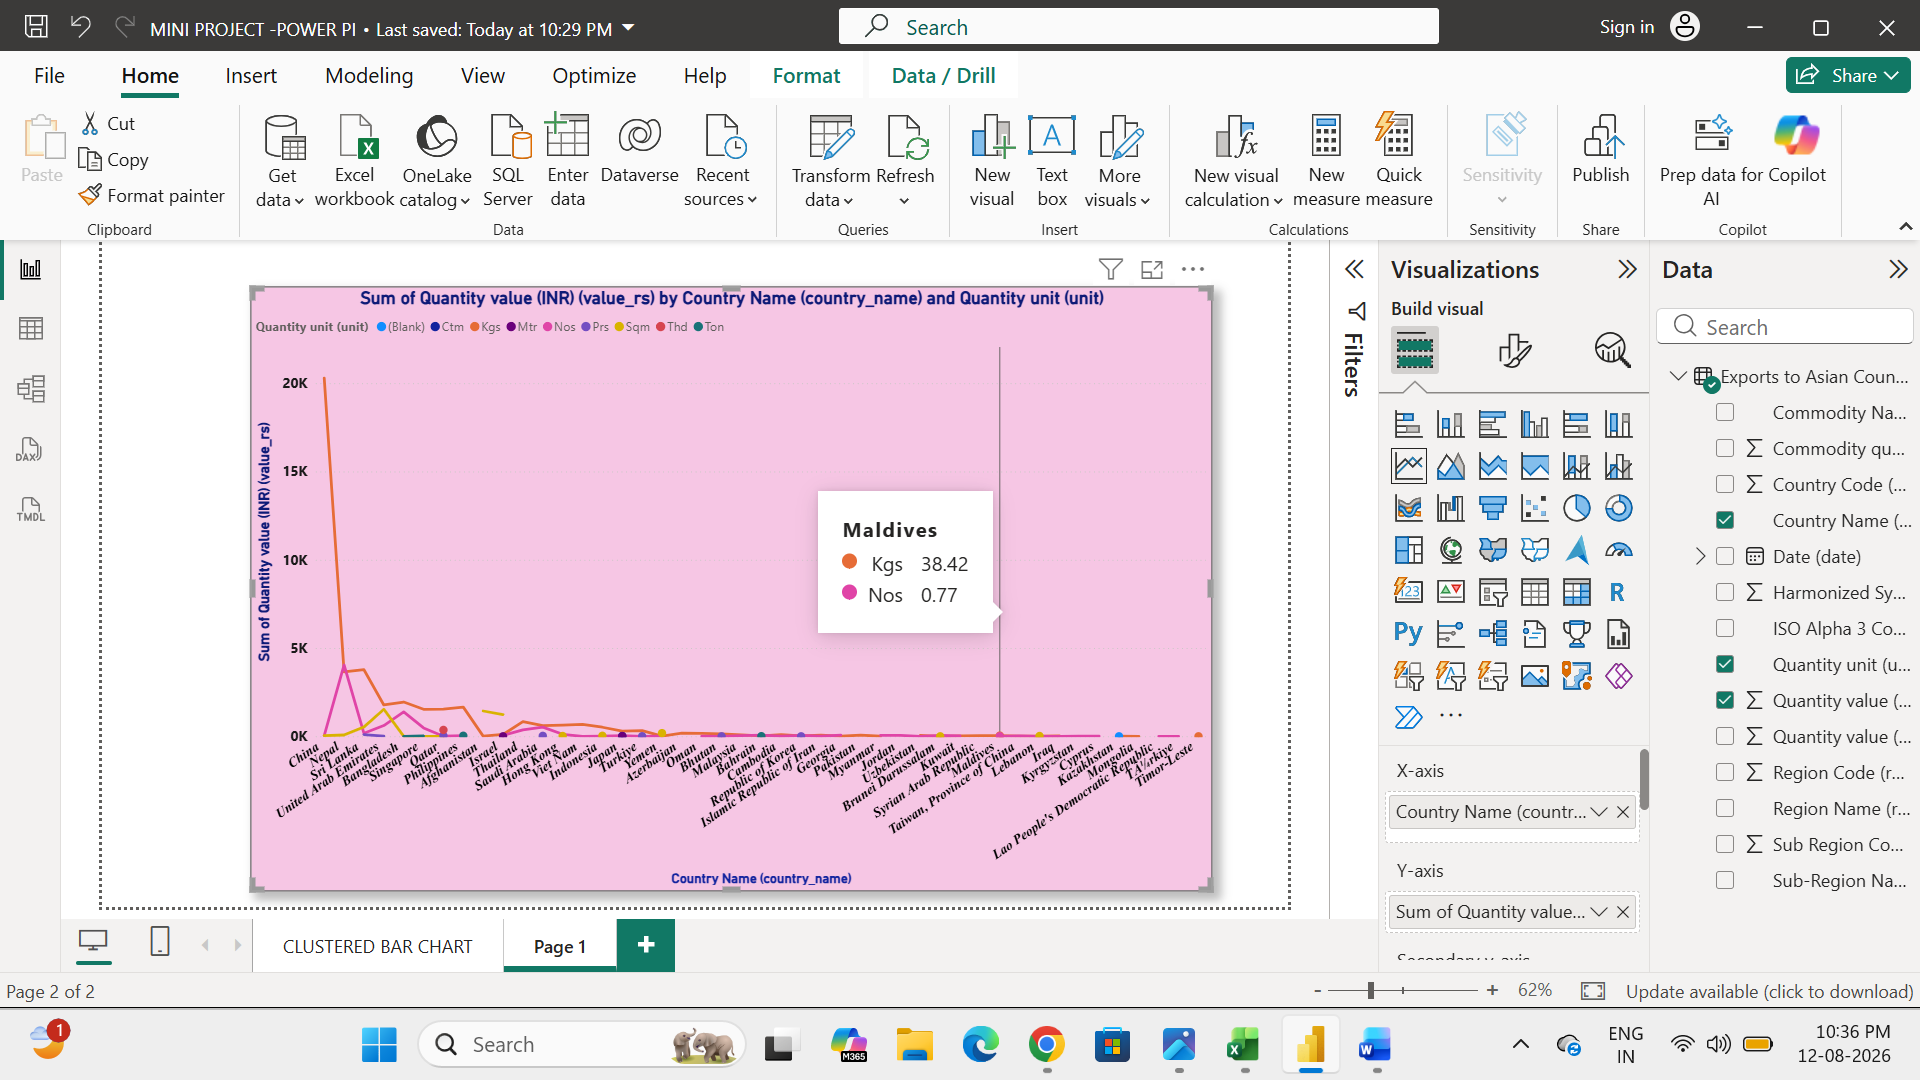

Layout of this report page (visuals, bound fields, positions):
{"tool":"powerbi","page":{"name":"LINE CHART","canvas":[1280,720],"ordinal":1},"visuals":[{"type":"lineChart","fields":{"Y":["Sum(Exports to Asian Countries_Samp.Quantity value (INR) (value_rs))"],"Category":["Exports to Asian Countries_Samp.Country Name (country_name)"],"Series":["Exports to Asian Countries_Samp.Quantity unit (unit)"]},"box":[160.3,50.2,1037.9,652.5],"z":0}]}

Visuals, with their boxes on the page's 1280x720 design canvas (x1, y1, x2, y2). These are canvas units, not pixel positions in the 1920x1080 screenshot, which may show the page scaled, cropped or inside an application window:
lineChart - Sum(Exports to Asian Countries_Samp.Quantity value (INR) (value_rs)) x Exports to Asian Countries_Samp.Country Name (country_name): <box>160,50,1198,703</box>
